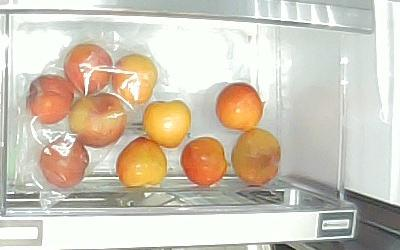prune: (231, 127, 281, 186), (114, 136, 168, 189), (216, 82, 265, 131), (181, 136, 227, 188), (143, 100, 191, 149)
prune_vinyl: (68, 93, 127, 148), (40, 136, 90, 189), (26, 75, 76, 125), (65, 43, 113, 95), (112, 54, 158, 105)
